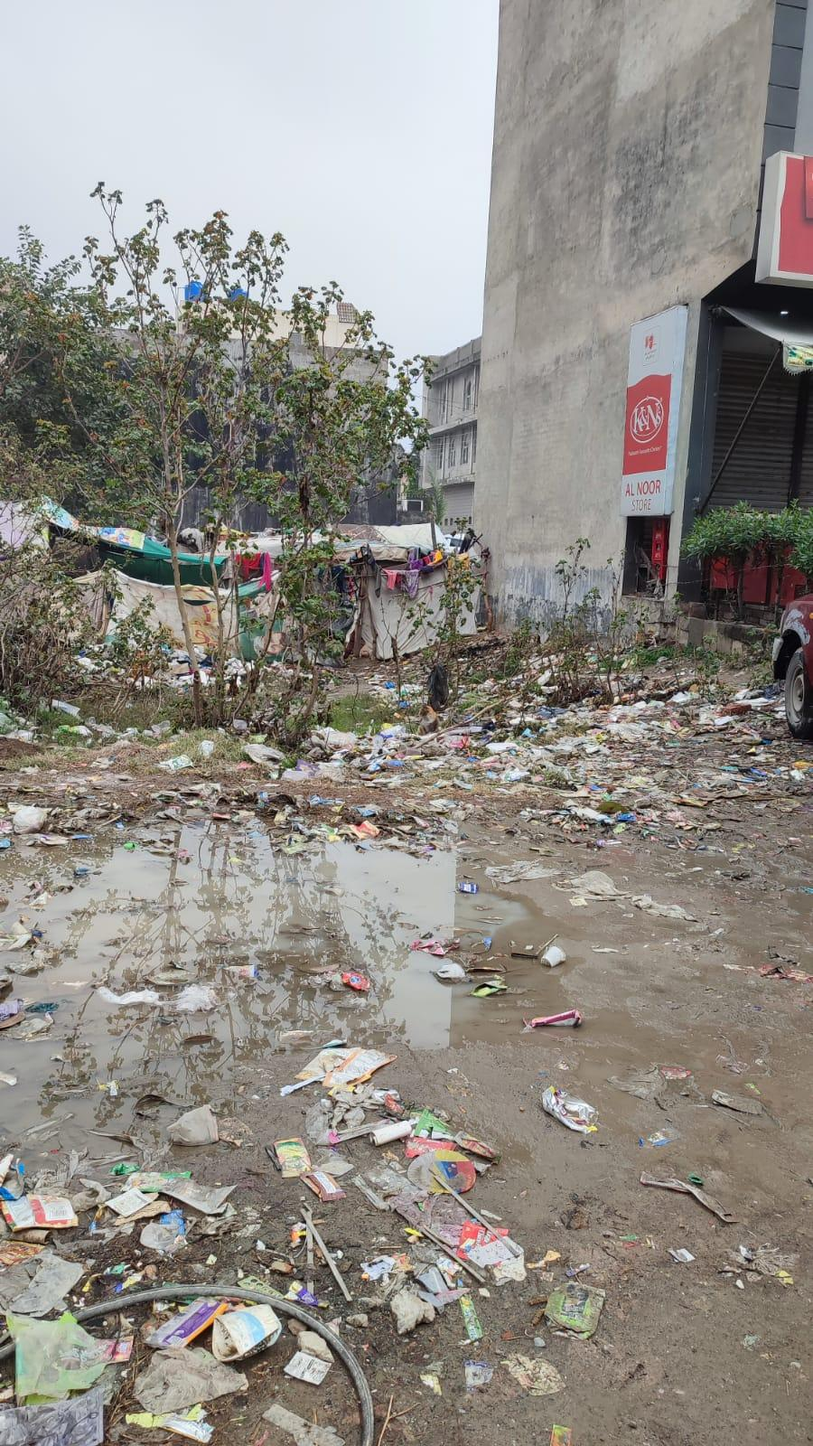garbage: (1, 1031, 589, 1446), (182, 621, 813, 878)
